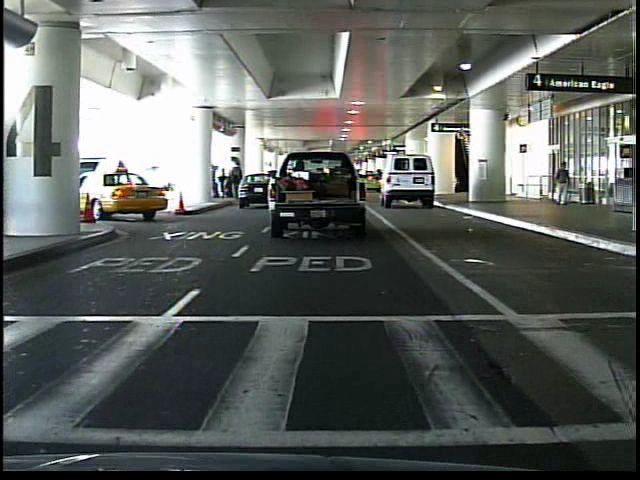person: (552, 159, 573, 211)
